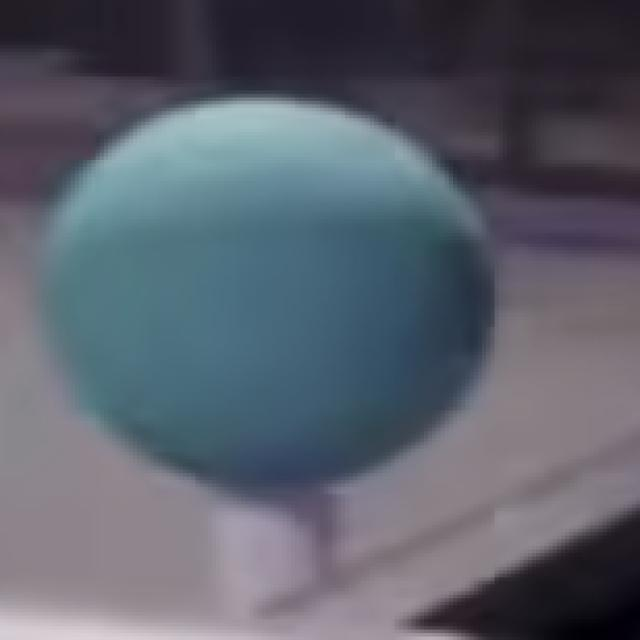Algae: (33, 98, 499, 498)
Coral: (222, 487, 334, 620)
